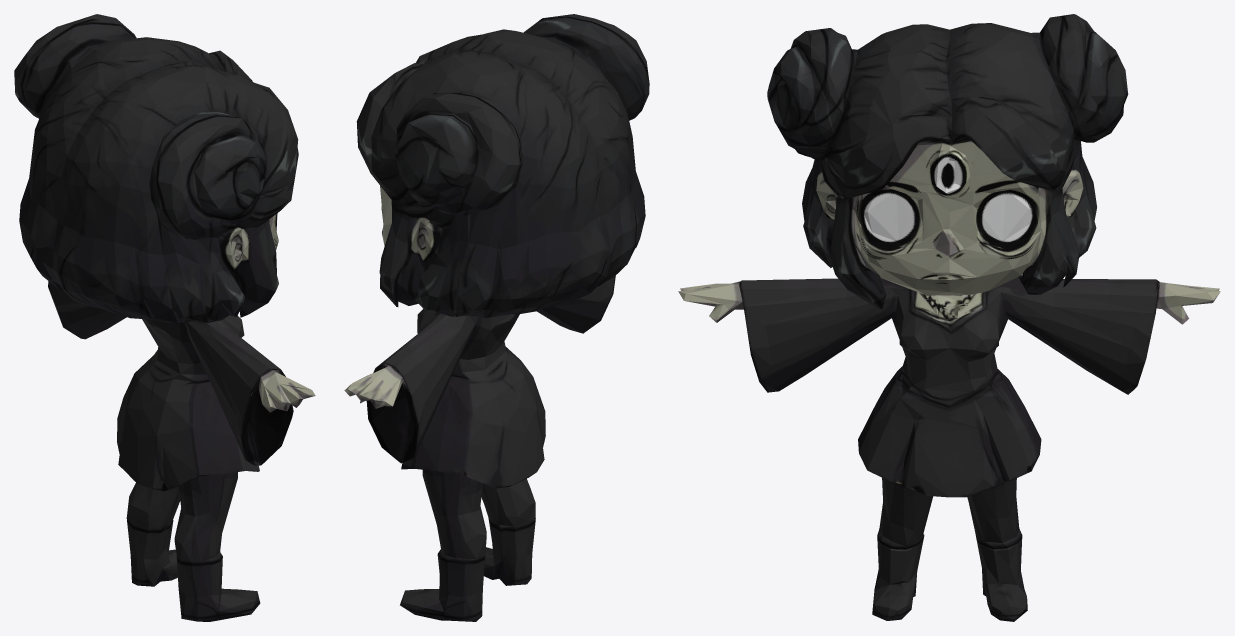
The model's file is gothic+girl+3d+model.glb.
The picture shows the model from 3 angles, left to right: view 1: azimuth 30°, elevation 25°; view 2: azimuth 150°, elevation 25°; view 3: azimuth 270°, elevation 25°; orthographic projection. The views are drawn at different scales.
Parts seen in each view (by area): view 1: tripo_node_1c23b92c-15e5-49e2-8109-ae102dae7c06; view 2: tripo_node_1c23b92c-15e5-49e2-8109-ae102dae7c06; view 3: tripo_node_1c23b92c-15e5-49e2-8109-ae102dae7c06.
Boxes of the visible parts, bbox=[...] form: tripo_node_1c23b92c-15e5-49e2-8109-ae102dae7c06: bbox=[14, 14, 315, 621]; tripo_node_1c23b92c-15e5-49e2-8109-ae102dae7c06: bbox=[344, 14, 649, 621]; tripo_node_1c23b92c-15e5-49e2-8109-ae102dae7c06: bbox=[678, 14, 1220, 621].
Size of the model in its own units: 0.4364 by 0.9995 by 0.8802.
Materials: 1 (1 with a texture image).
